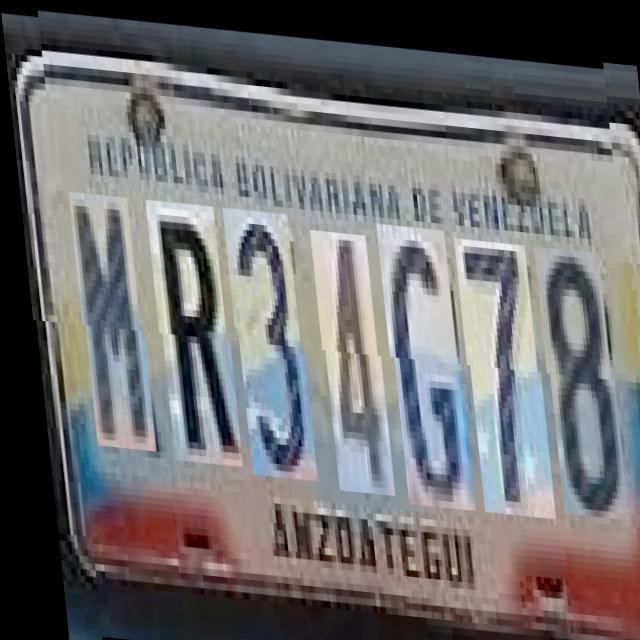3: (222, 204, 308, 476)
4: (308, 224, 386, 488)
7: (453, 229, 546, 508)
8: (532, 235, 618, 508)
G: (376, 216, 466, 502)
M: (67, 191, 146, 449)
R: (144, 197, 233, 463)
